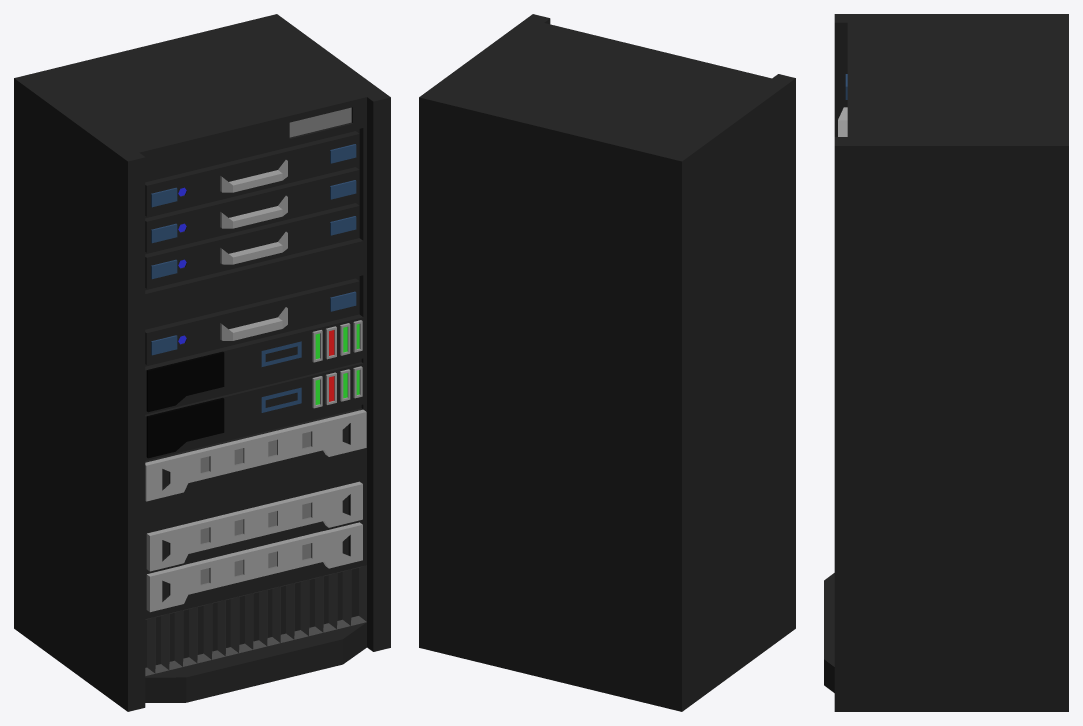
File: Int_TechServer01.fbx
3 renders of one model, left to right at view 1: azimuth 30°, elevation 25°; view 2: azimuth 150°, elevation 25°; view 3: azimuth 270°, elevation 25°, orthographic. The views are drawn at different scales.
Visible parts, largest first — view 1: Int_TechServer01; view 2: Int_TechServer01; view 3: Int_TechServer01.
Boxes of the visible parts, x1=… form: Int_TechServer01: x1=14, y1=14, x2=390, y2=711; Int_TechServer01: x1=419, y1=14, x2=795, y2=711; Int_TechServer01: x1=824, y1=14, x2=1068, y2=711.
Size of what is drawn, in the model's own units: 100 by 78.41 by 200.
